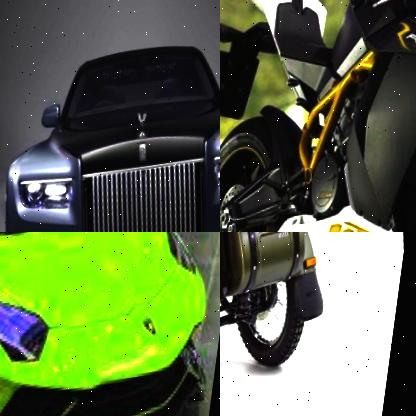bike: (220, 0, 416, 232), (220, 232, 388, 416)
car: (0, 23, 220, 232), (0, 232, 220, 416)
